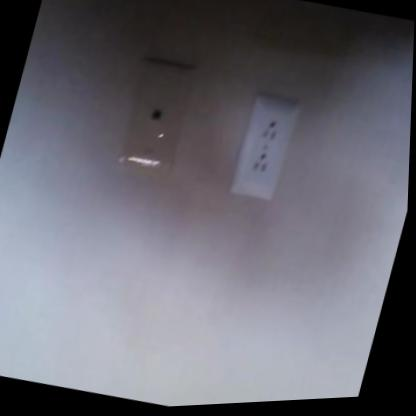OUTLET: (229, 95, 298, 204)
